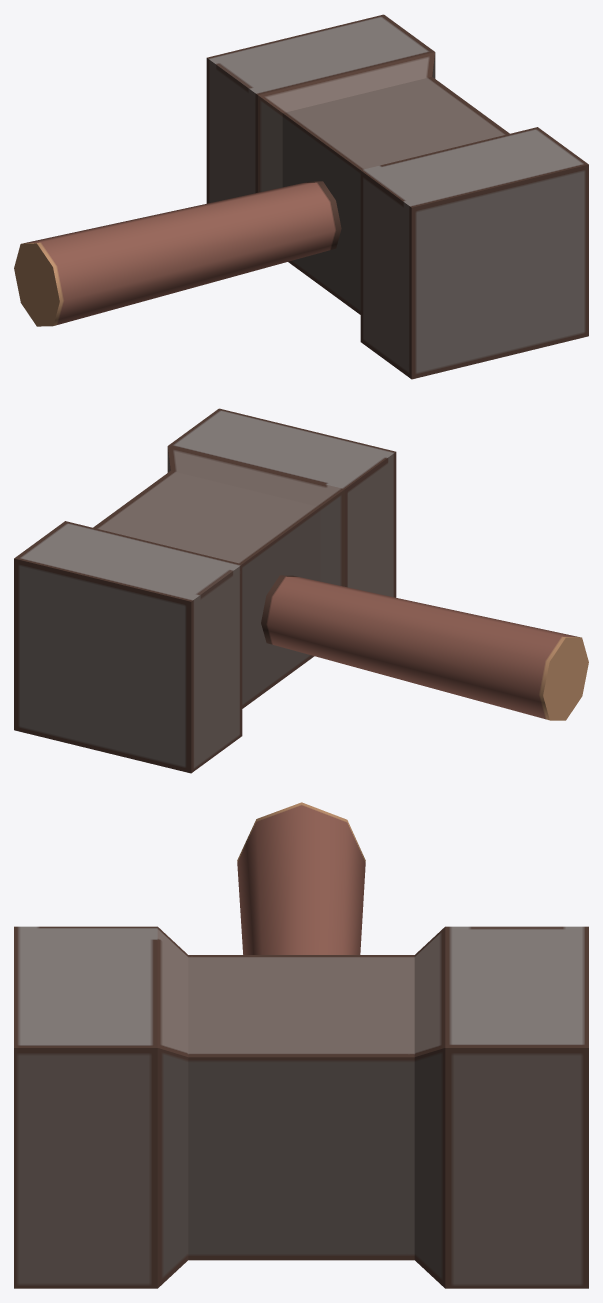
File: Hammer.fbx
The picture shows the model from 3 angles, top to bottom: view 1: azimuth 30°, elevation 25°; view 2: azimuth 150°, elevation 25°; view 3: azimuth 270°, elevation 25°; orthographic projection. The views are drawn at different scales.
Parts seen in each view (by area): view 1: Hammer; view 2: Hammer; view 3: Hammer.
Part boxes in pixels (x1=…): Hammer: x1=14, y1=14, x2=588, y2=379; Hammer: x1=14, y1=408, x2=588, y2=773; Hammer: x1=14, y1=802, x2=588, y2=1288.
Bounding box in the file's own units: 0.6627 × 0.2419 × 0.5235.
1 material, 1 textured.
